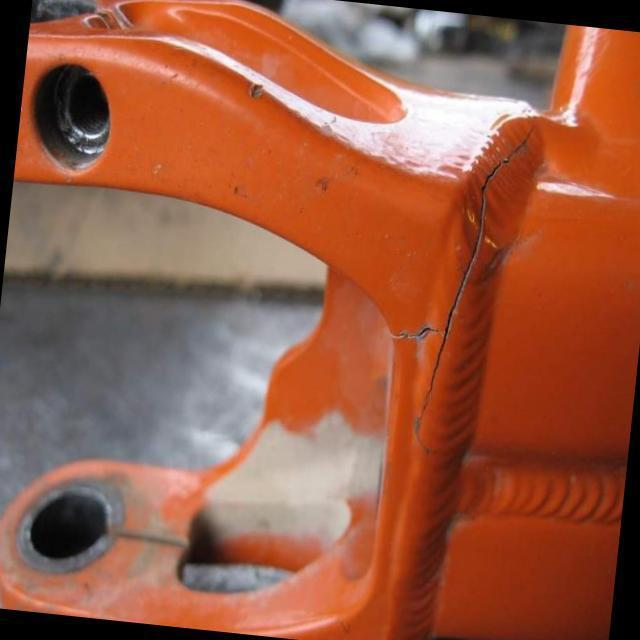defect: (386, 109, 537, 458)
